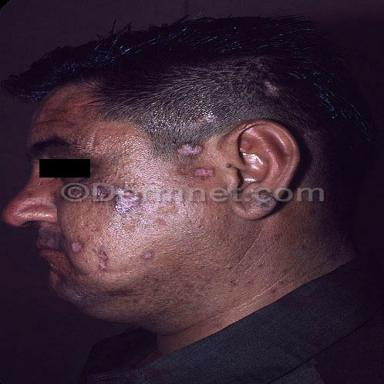Lupus-Erythematosus-Chronicus-Discoides: (177, 144, 202, 156), (115, 202, 140, 214), (263, 81, 280, 97), (193, 169, 214, 179), (98, 250, 108, 269), (70, 241, 83, 252), (141, 251, 153, 259)
